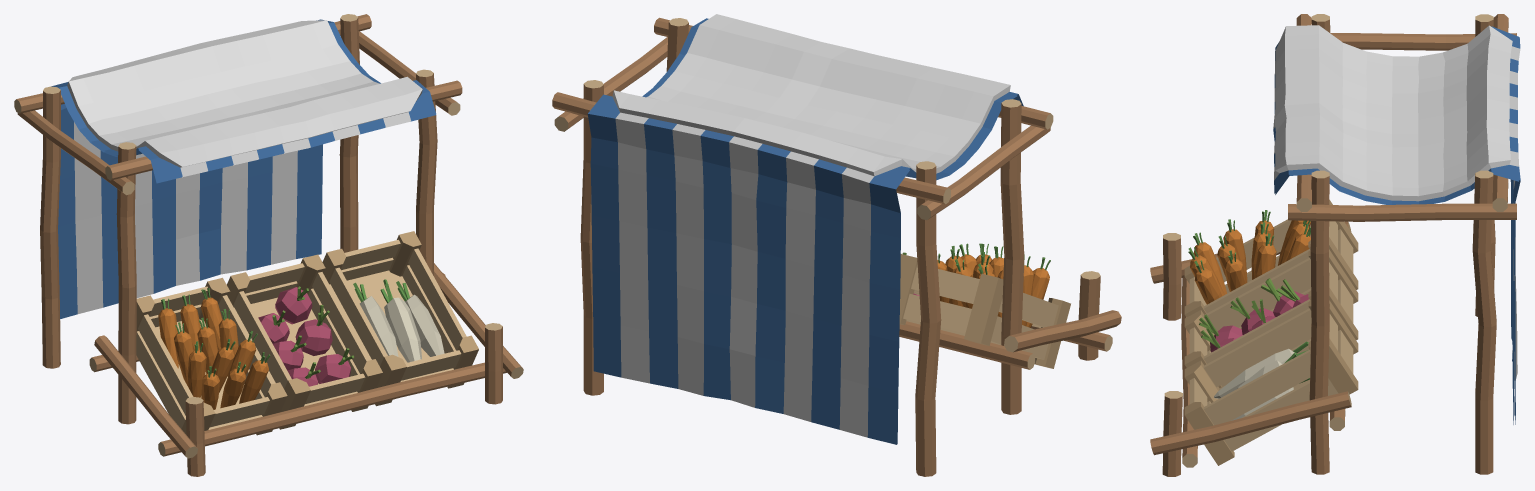
File: Stall08.fbx
The picture shows the model from 3 angles, left to right: view 1: azimuth 30°, elevation 25°; view 2: azimuth 150°, elevation 25°; view 3: azimuth 270°, elevation 25°; orthographic projection. The views are drawn at different scales.
Parts seen in each view (by area): view 1: Stall08; view 2: Stall08; view 3: Stall08.
Boxes of the visible parts, x1=… form: Stall08: x1=14, y1=14, x2=523, y2=476; Stall08: x1=552, y1=14, x2=1121, y2=476; Stall08: x1=1150, y1=14, x2=1520, y2=476.
Bounding box in the file's own units: 4 × 3.07 × 3.4.
